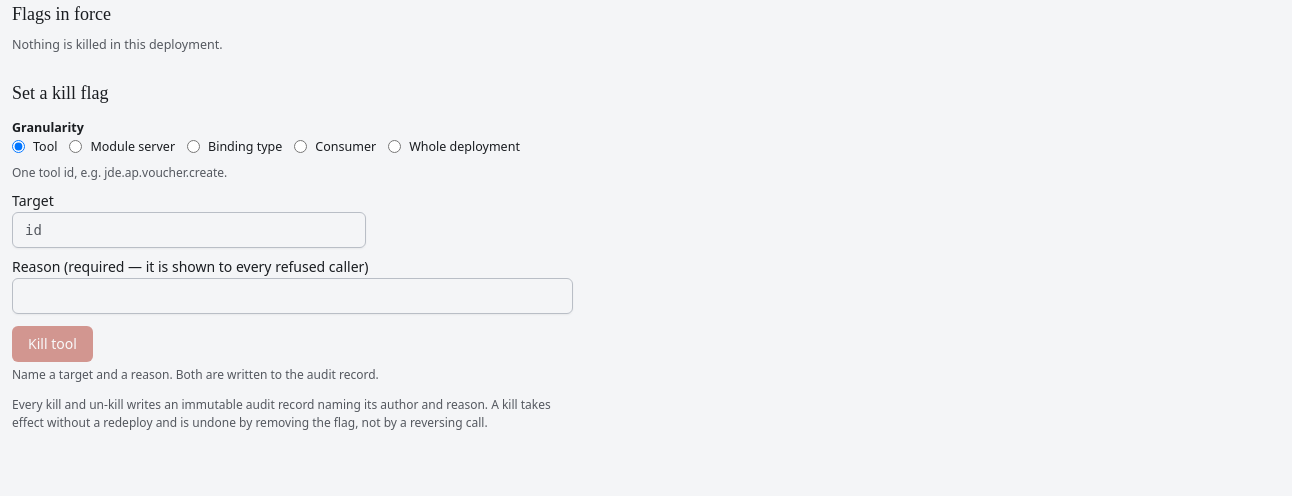
Test: KillSwitchPanel — five granularities, type-to-confirm on deployment-wide › an admin who names a target and reason is shown the exact forge kill command
Type "jde.ap.voucher.create" into the field labelled "Target".
click(189, 230); type("jde.ap.voucher.create")  # box [12, 212, 366, 248]
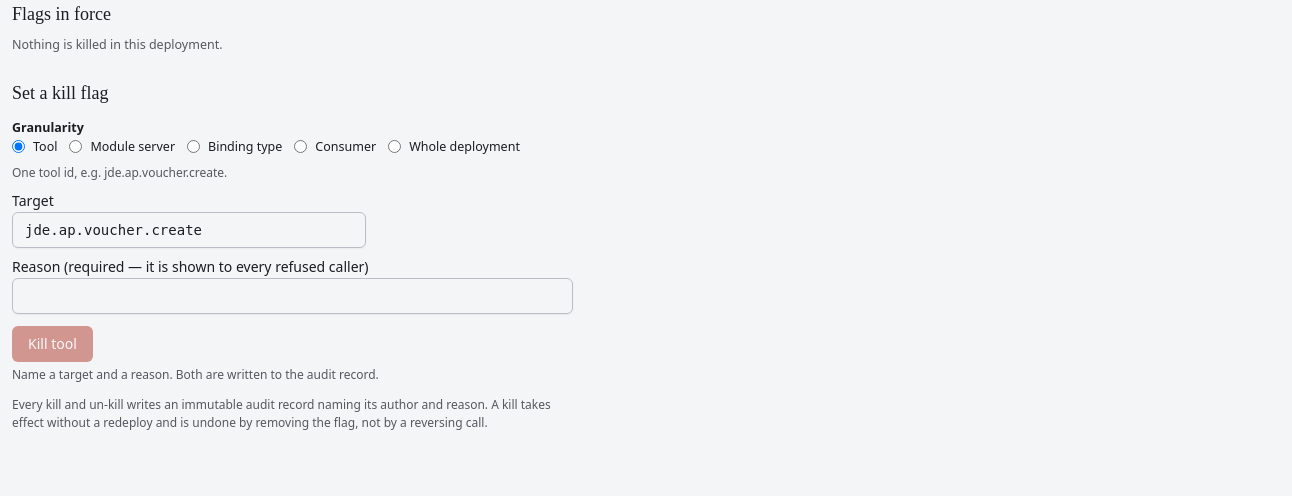
Type "AP's JDE is down" into the field labelled "Reason (required — it is shown to every refused caller)".
click(292, 296); type("AP's JDE is down")  # box [12, 278, 572, 314]
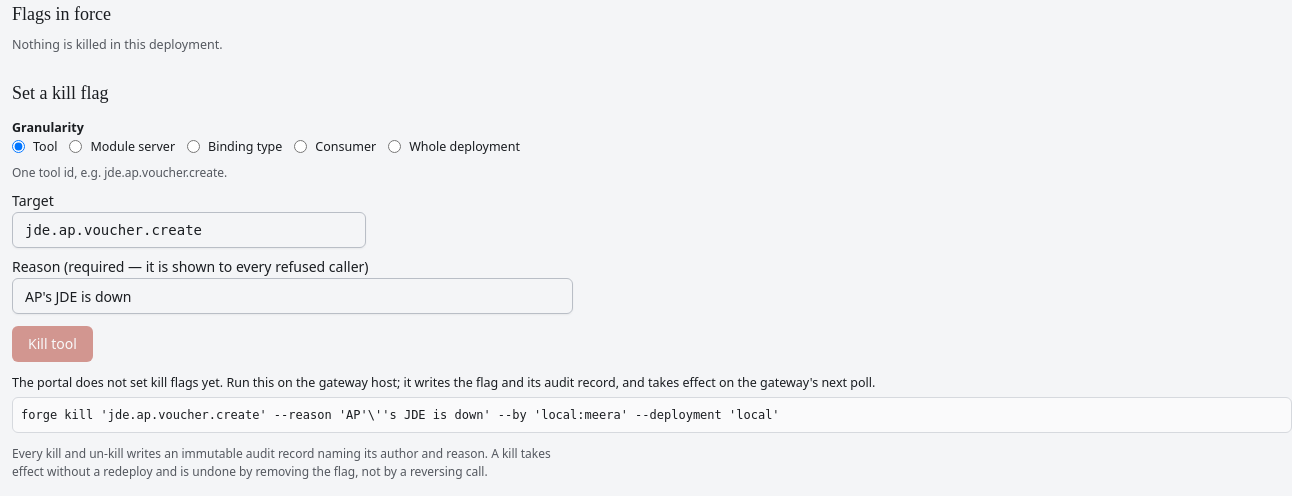
expect the element with test id "kill-command" shows "forge kill 'jde.ap.voucher.create' --reason 'AP'\\''s JDE is down' --by 'local:meera' --deployment 'local'": met, box [21, 408, 780, 422]
